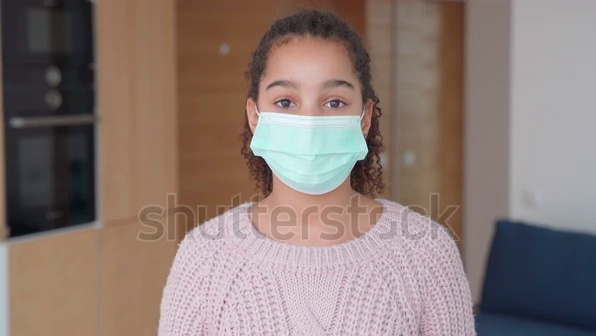Mask: (244, 110, 376, 202)
